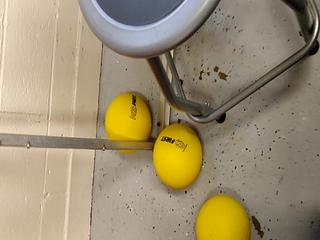power_cell: (100, 94, 151, 157), (151, 123, 202, 186), (196, 177, 247, 240)
